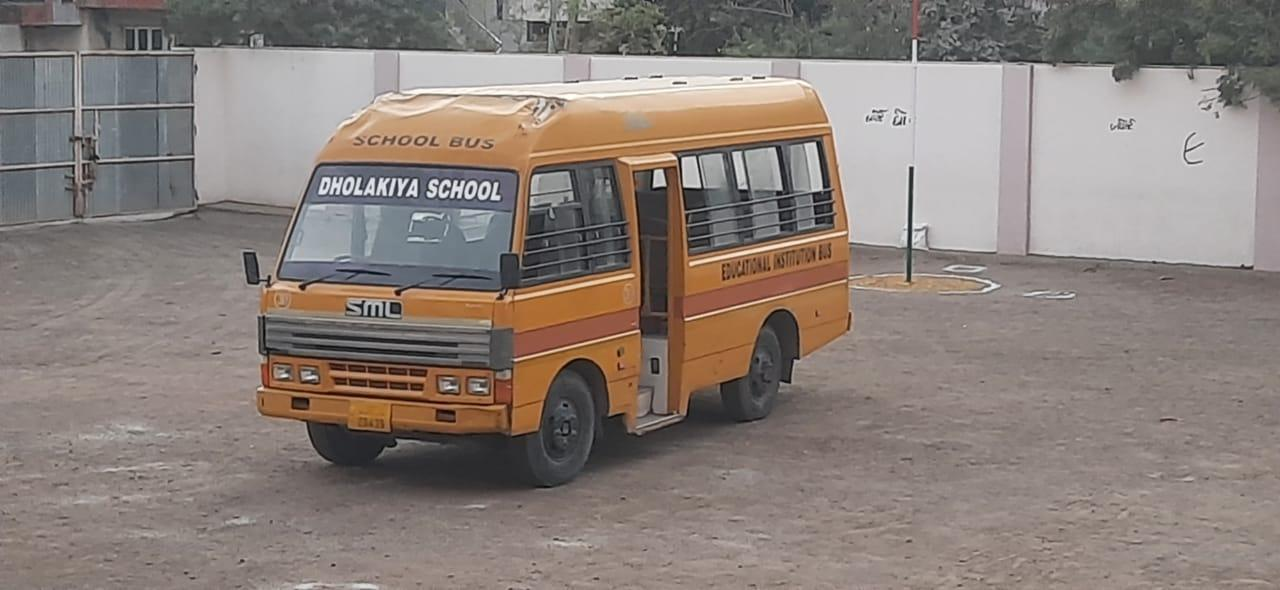Bus: (238, 70, 881, 493)
